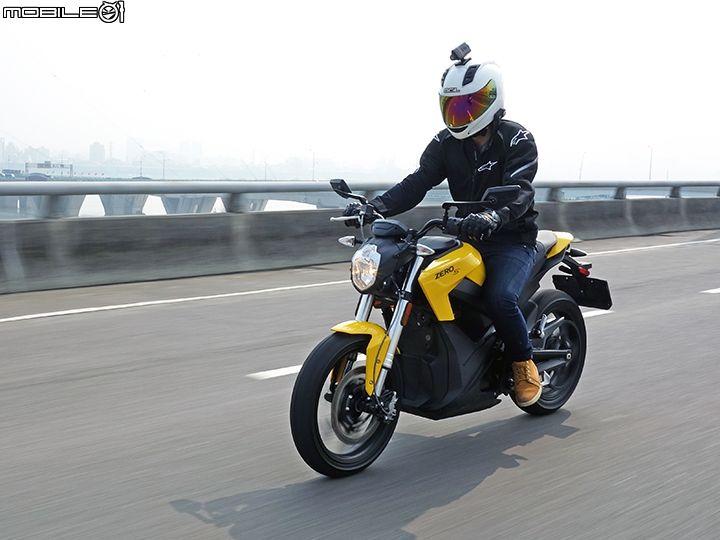helmet: (435, 63, 515, 143)
